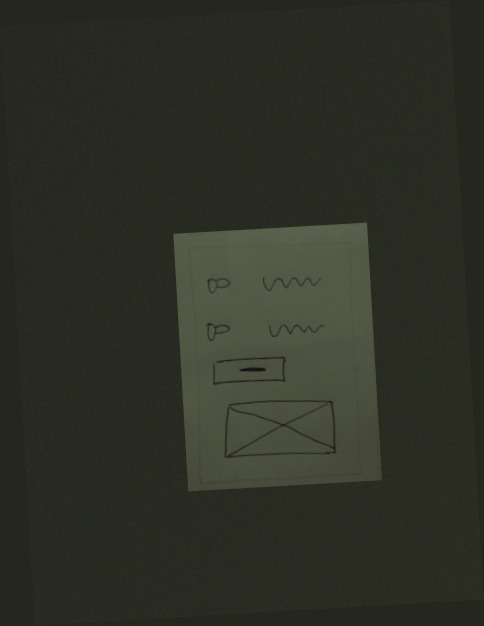button: (208, 353, 288, 392)
image: (218, 392, 342, 467)
switch: (202, 317, 231, 346), (202, 271, 235, 296)
text: (259, 269, 326, 297), (265, 315, 328, 343)
